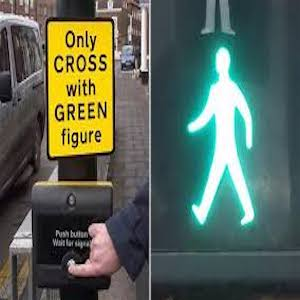green: (172, 41, 270, 230)
